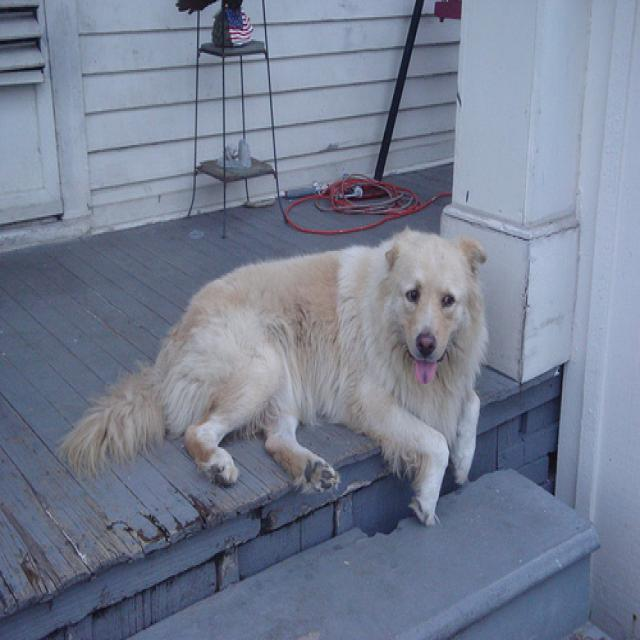dog-great_pyrenees: (58, 218, 493, 531)
